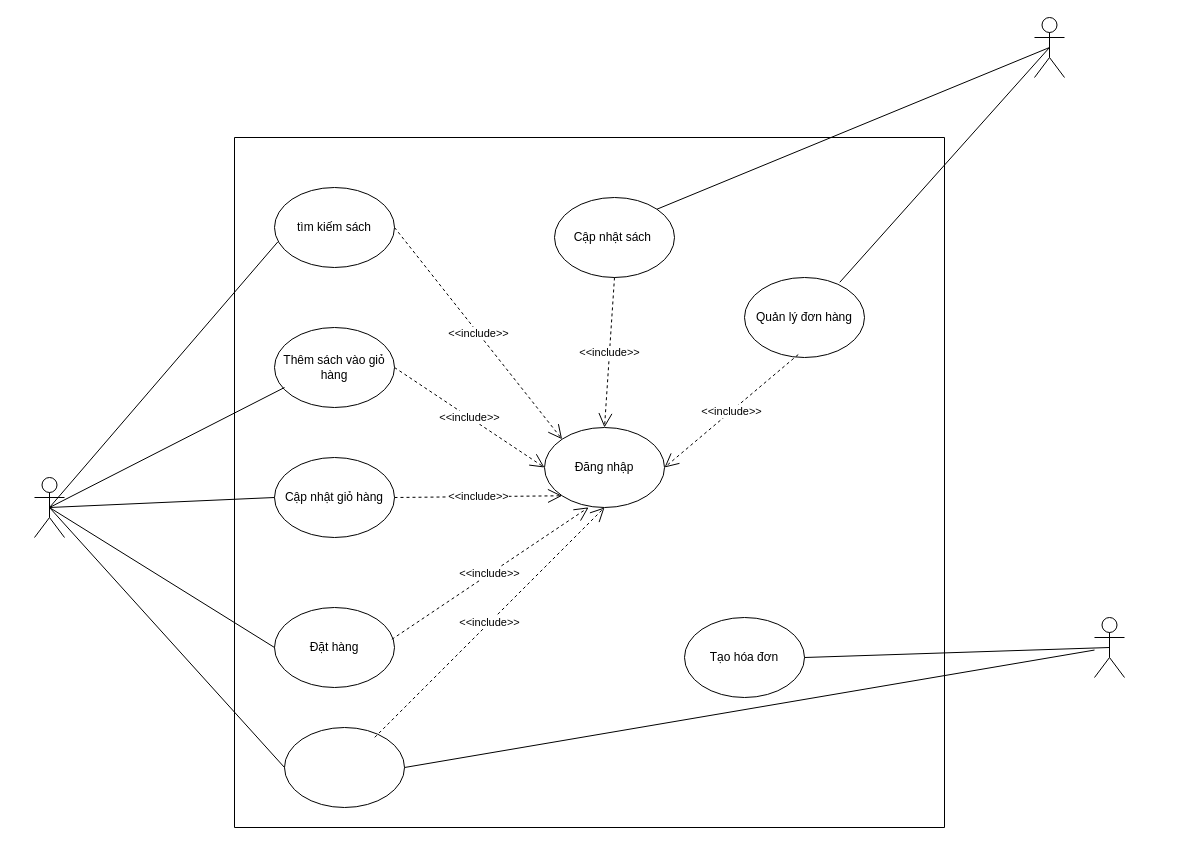
Some shapes in this 1181 by 845 pixel diagram are drawn without their labels. Here are the shapes that lost their labels. From the top down, the centre of each, then its label:
[1049,47]: Nhân viên
[49,507]: Khách hàng
[1109,647]: Hệ thống thanh toán
[344,767]: Thanh toán
